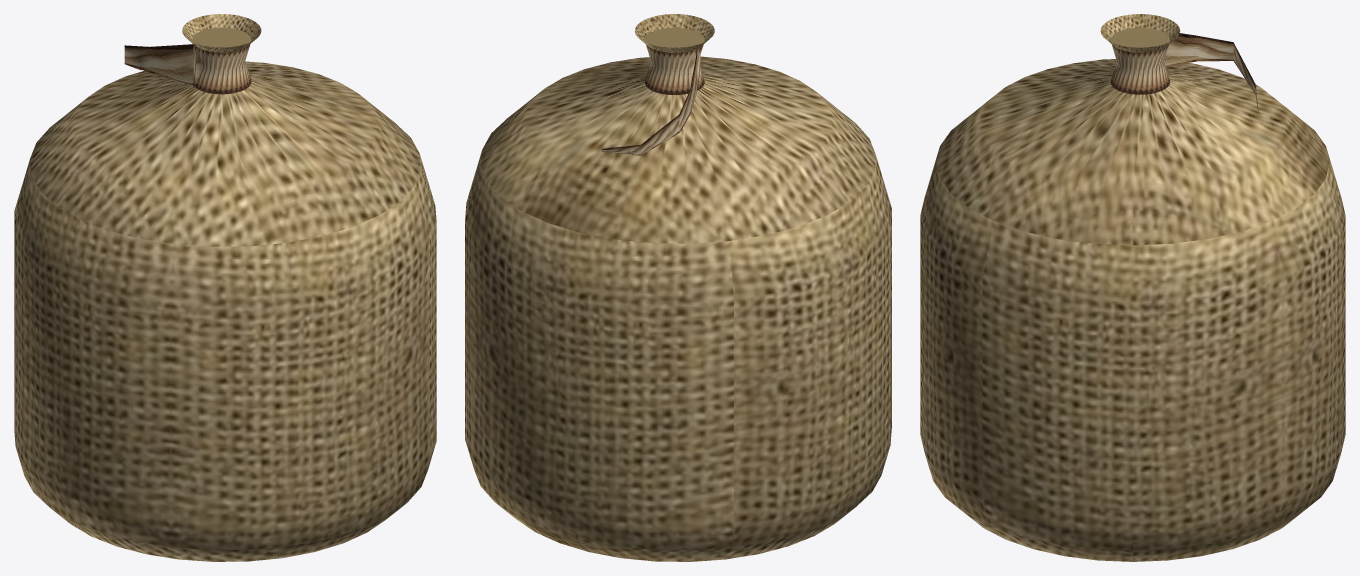
Rendered from vfxBurlapSack.glb.
3 views of the same model, side by side, from view 1: azimuth 30°, elevation 25°; view 2: azimuth 150°, elevation 25°; view 3: azimuth 270°, elevation 25° (orthographic).
Parts seen in each view (by area): view 1: BurlapSack; view 2: BurlapSack; view 3: BurlapSack.
Part boxes in pixels (<box>): BurlapSack: <box>14,14,436,561</box>; BurlapSack: <box>465,14,891,561</box>; BurlapSack: <box>920,14,1345,561</box>.
Size of the model in its own units: 1 by 1.2 by 1.
Materials: 2 (2 with a texture image).
